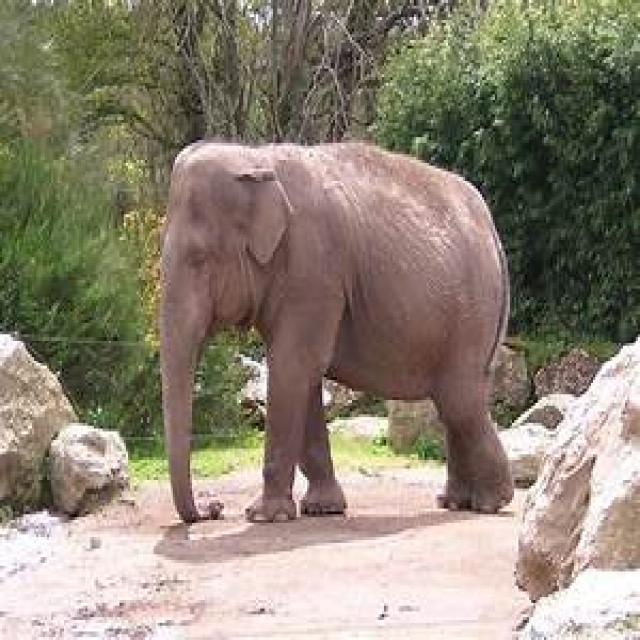elephant: (160, 140, 514, 526)
